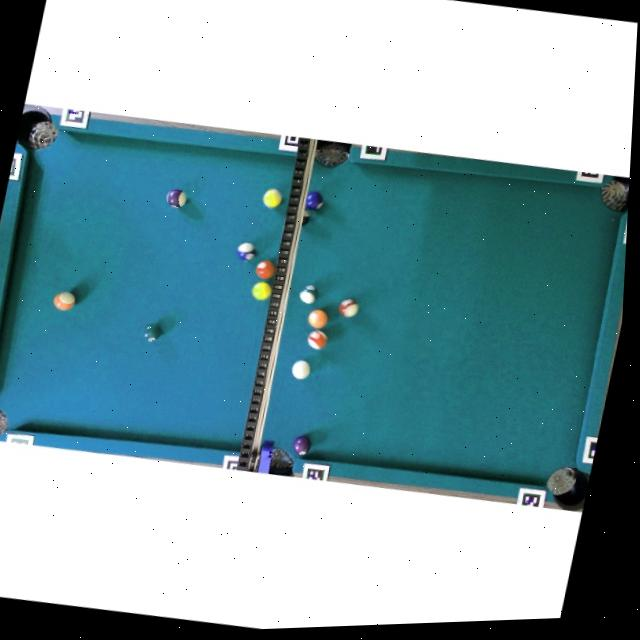cue ball: (290, 359, 313, 382)
other: (52, 290, 77, 313), (305, 329, 329, 352), (306, 308, 330, 330), (164, 188, 188, 210), (291, 434, 313, 457), (251, 280, 274, 302), (235, 241, 258, 263), (254, 259, 277, 281), (337, 297, 361, 318), (142, 321, 164, 343), (304, 190, 326, 212), (261, 188, 284, 209), (297, 284, 318, 305)
